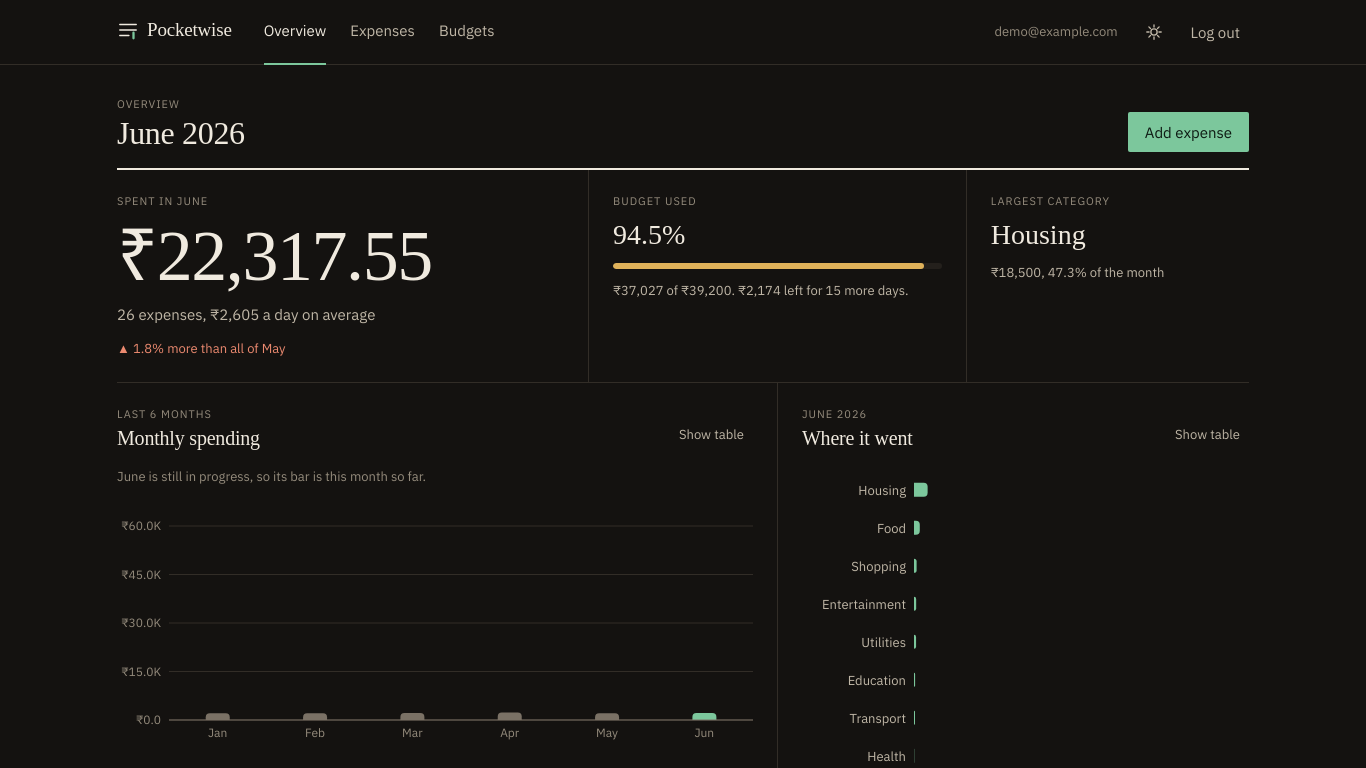
dashboard › offers the monthly trend as a table with the same numbers
Click the button "Show table" in the row of "Monthly spending": [711, 435] box x1=670 y1=419 x2=753 y2=451
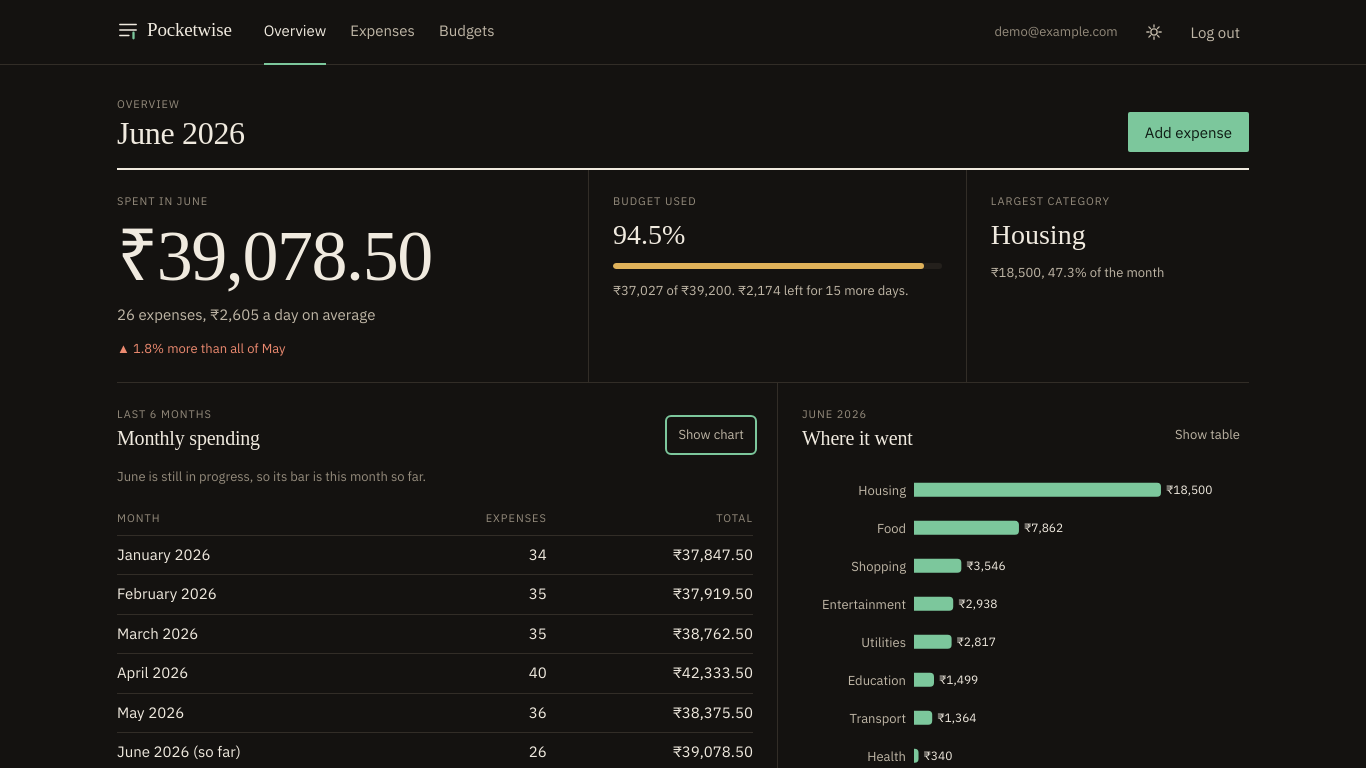
expect the row "January 2026 34 ₹37,847.50" is shown: met, box x1=117 y1=535 x2=753 y2=575
